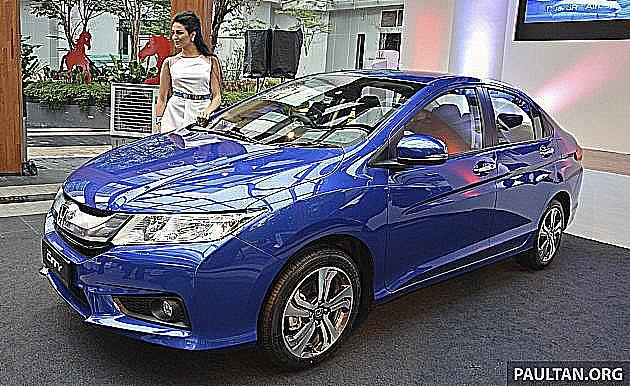Car hood: (64, 130, 343, 214)
Fender - -F-L-: (235, 148, 393, 306)
Fender - -R-L-: (534, 109, 577, 236)
Front bumper: (38, 220, 281, 358)
Headlight - -L-: (111, 208, 268, 246)
Passenger-s door - -F-L-: (386, 72, 500, 302)
Passenger-s door - -R-L-: (479, 70, 556, 276)
Side bumper - -L-: (372, 224, 543, 313)
Side mirror - -L-: (383, 133, 448, 172)
